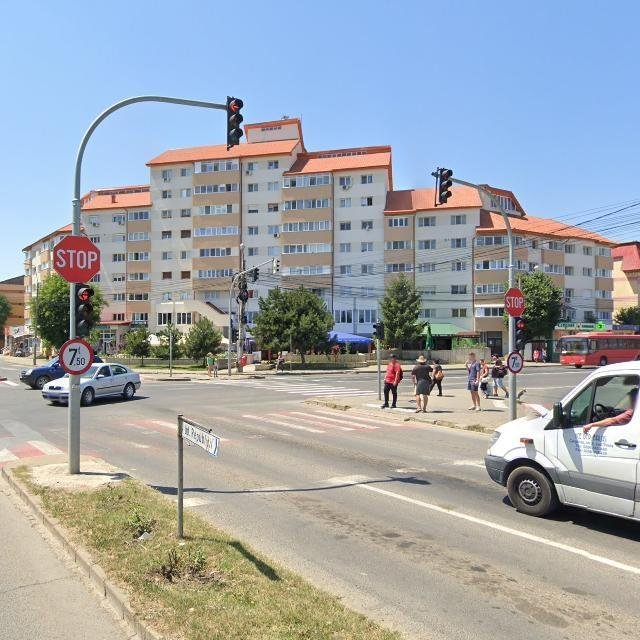prio_stop: (52, 235, 101, 284), (505, 288, 525, 317)
